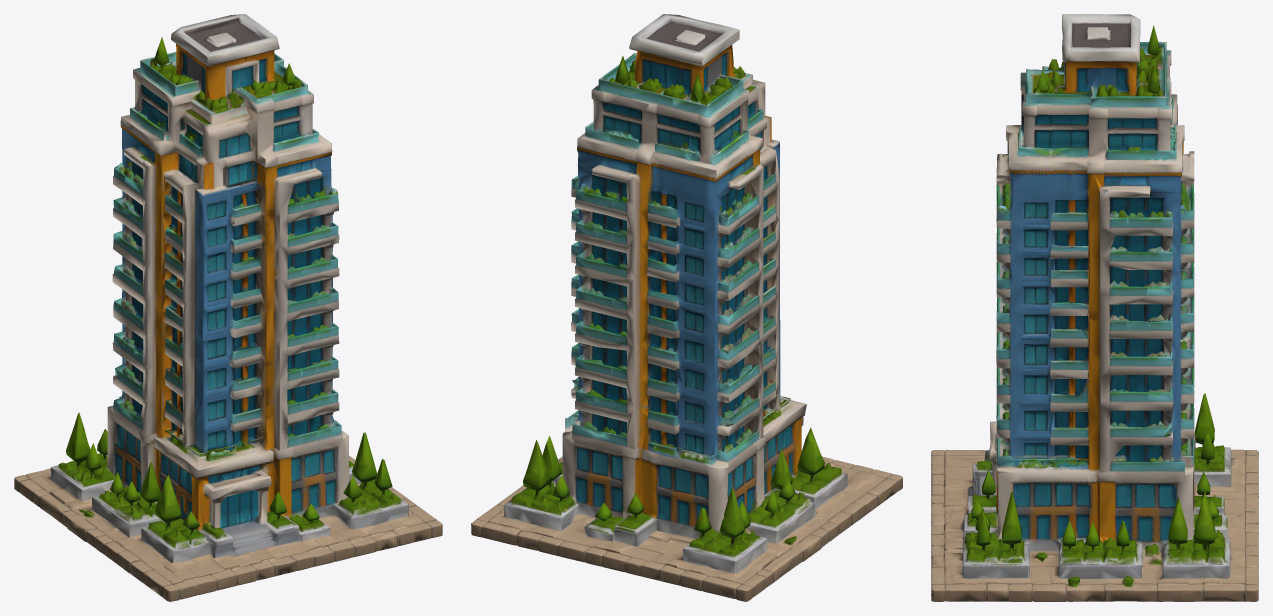
File: residential_tower_stage2.glb
3 renders of one model, left to right at view 1: azimuth 30°, elevation 25°; view 2: azimuth 150°, elevation 25°; view 3: azimuth 270°, elevation 25°, orthographic. The views are drawn at different scales.
Visible parts, largest first — view 1: tripo_node_141de034-67a4-4573-b55b-bb2bc1ce2911; view 2: tripo_node_141de034-67a4-4573-b55b-bb2bc1ce2911; view 3: tripo_node_141de034-67a4-4573-b55b-bb2bc1ce2911.
Boxes of the visible parts, x1,y1,x2,y2 form: tripo_node_141de034-67a4-4573-b55b-bb2bc1ce2911: (14,14,442,601); tripo_node_141de034-67a4-4573-b55b-bb2bc1ce2911: (471,14,902,601); tripo_node_141de034-67a4-4573-b55b-bb2bc1ce2911: (931,14,1258,601).
Bounding box in the file's own units: 0.6074 × 1 × 0.5947.
1 material, 1 textured.
